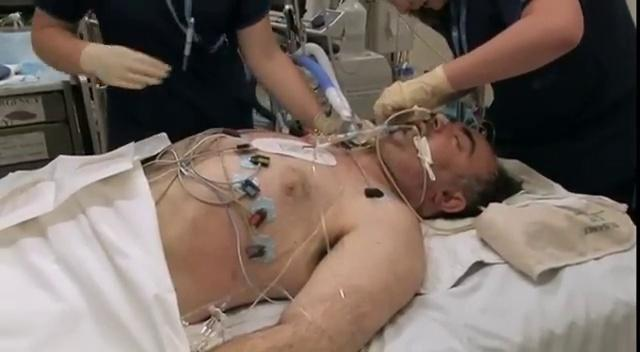others: (371, 0, 638, 207), (29, 0, 345, 153)
patient: (0, 104, 521, 351)
